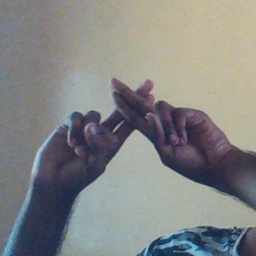F: (77, 72, 195, 161)
